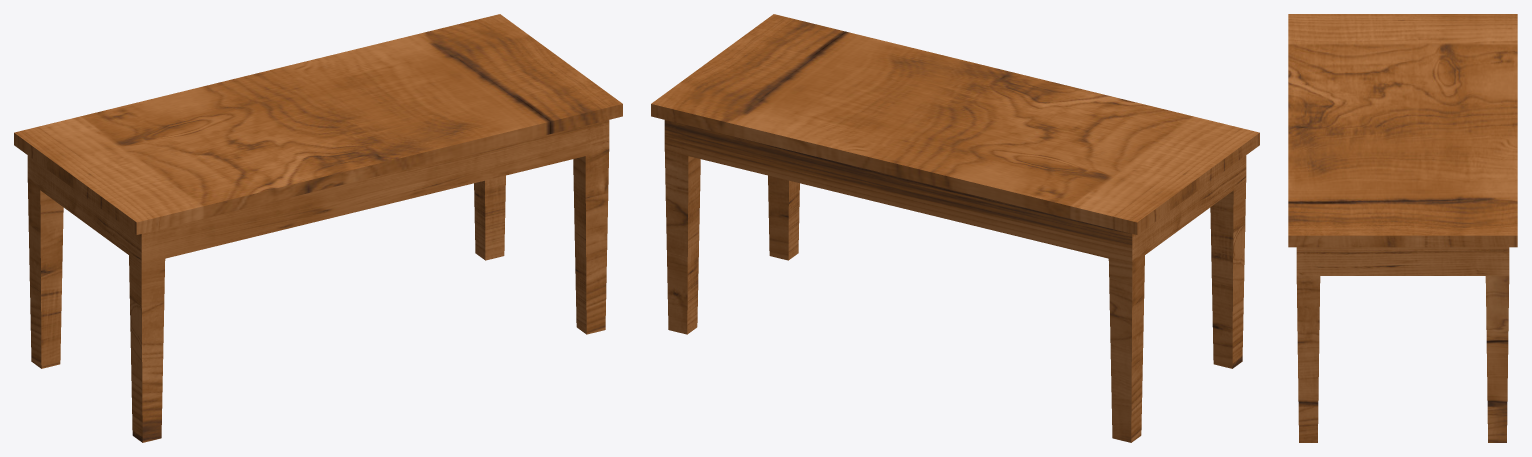
Rendered from longTable_SA.fbx.
The picture shows the model from 3 angles, left to right: view 1: azimuth 30°, elevation 25°; view 2: azimuth 150°, elevation 25°; view 3: azimuth 270°, elevation 25°; orthographic projection. The views are drawn at different scales.
Visible parts, largest first — view 1: longTable; view 2: longTable; view 3: longTable.
Part boxes in pixels (x1,y1,x2,y2): longTable: (14, 14, 622, 442); longTable: (651, 14, 1259, 442); longTable: (1288, 14, 1517, 442).
Size of the model in its own units: 4.11 by 1.84 by 1.8.
Materials: 1 (1 with a texture image).
